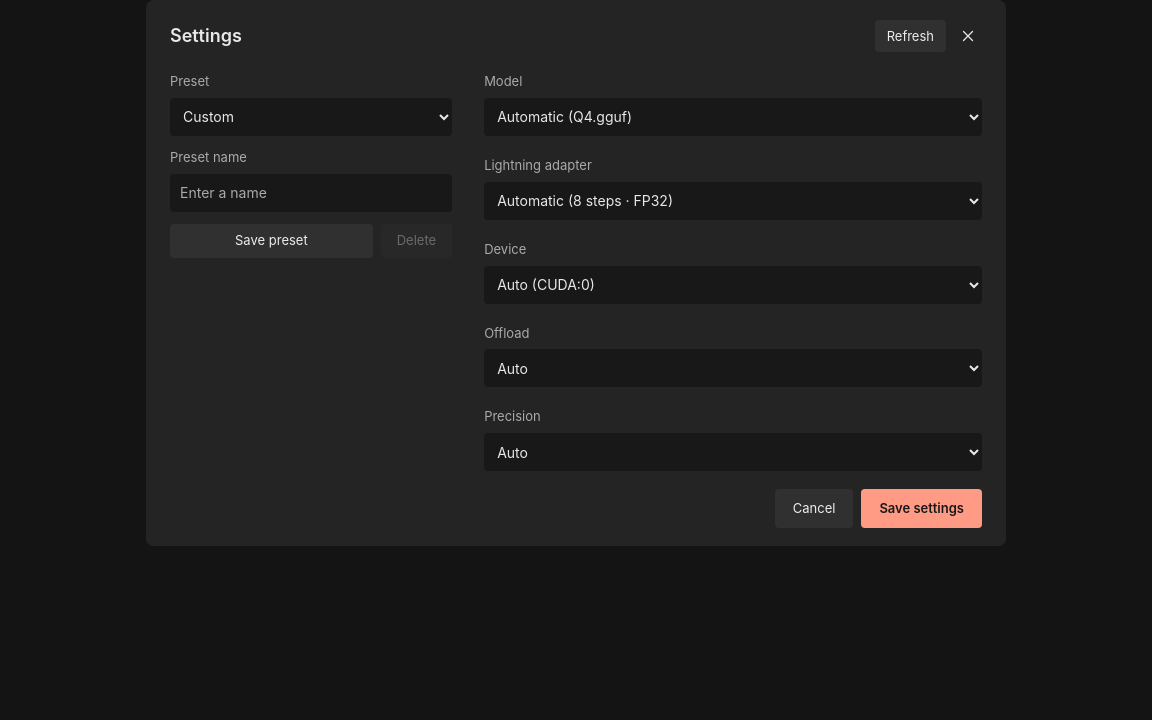
settings modal › shows failed Refresh inside the modal and keeps current draft selections
The image size is (1152, 720).
Select "Q8.gguf" in the dropdown labelled "Model" at (733, 117), box left=484, top=98, right=982, bottom=136
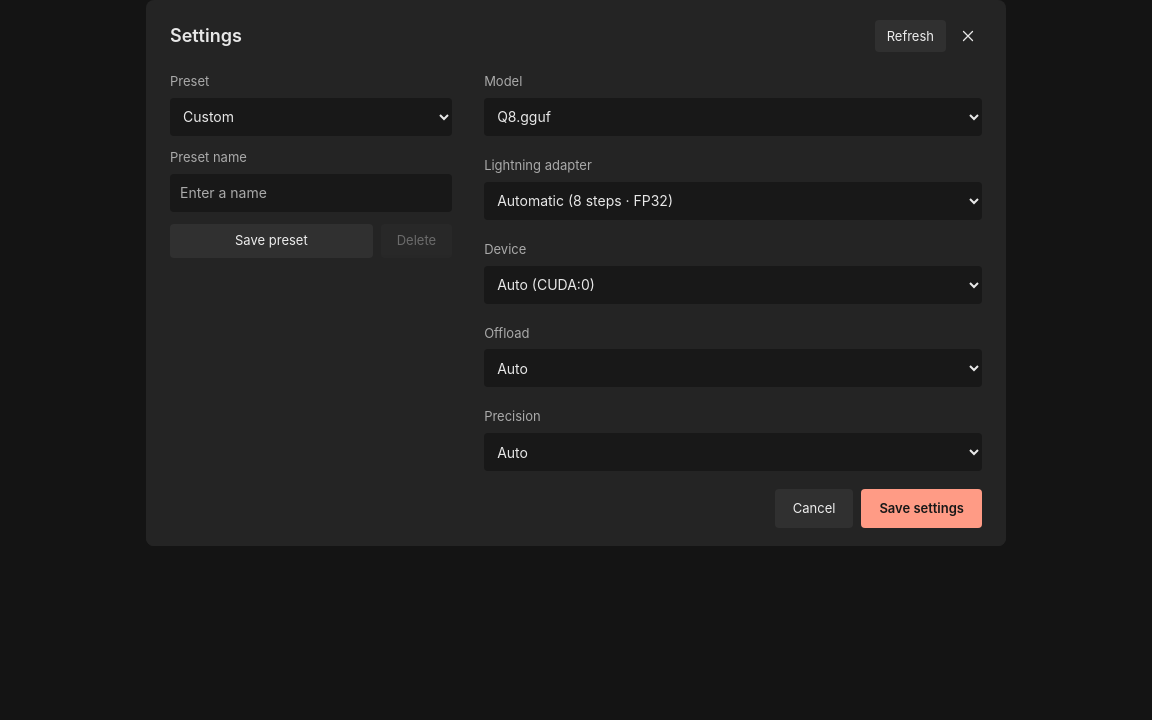
Click the button "Refresh".
click(910, 36)  # box left=875, top=20, right=946, bottom=52
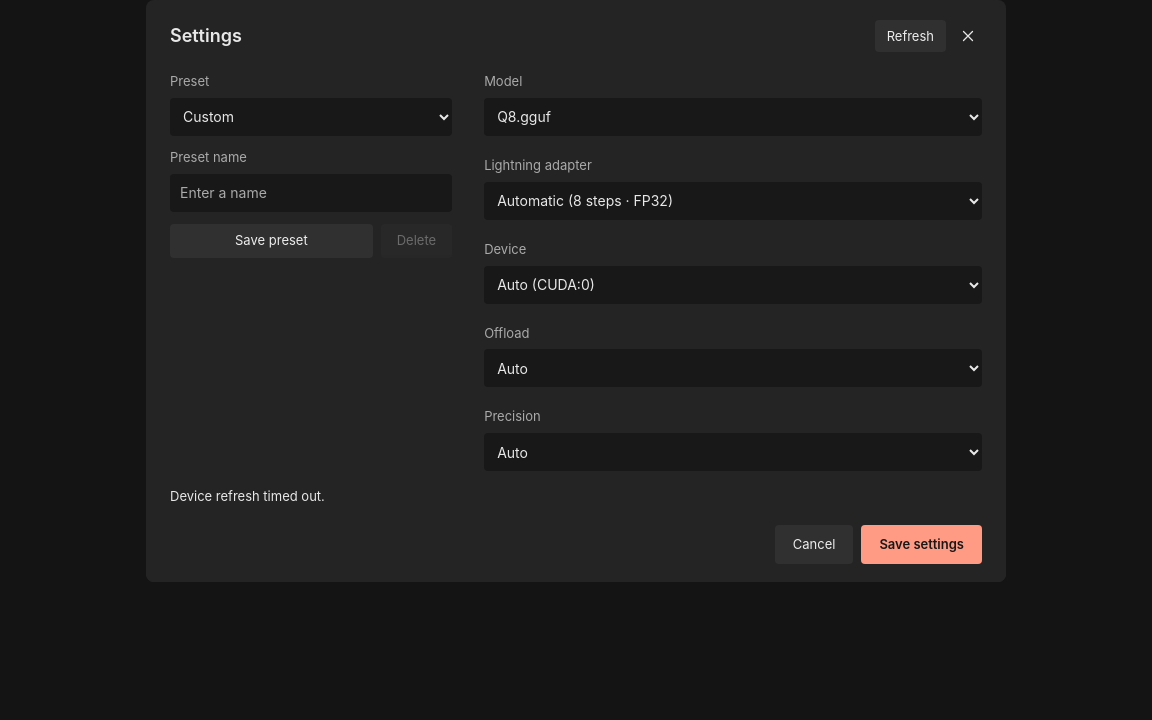
Expected: the message reads "Device refresh timed out.", left=170, top=488, right=325, bottom=504
